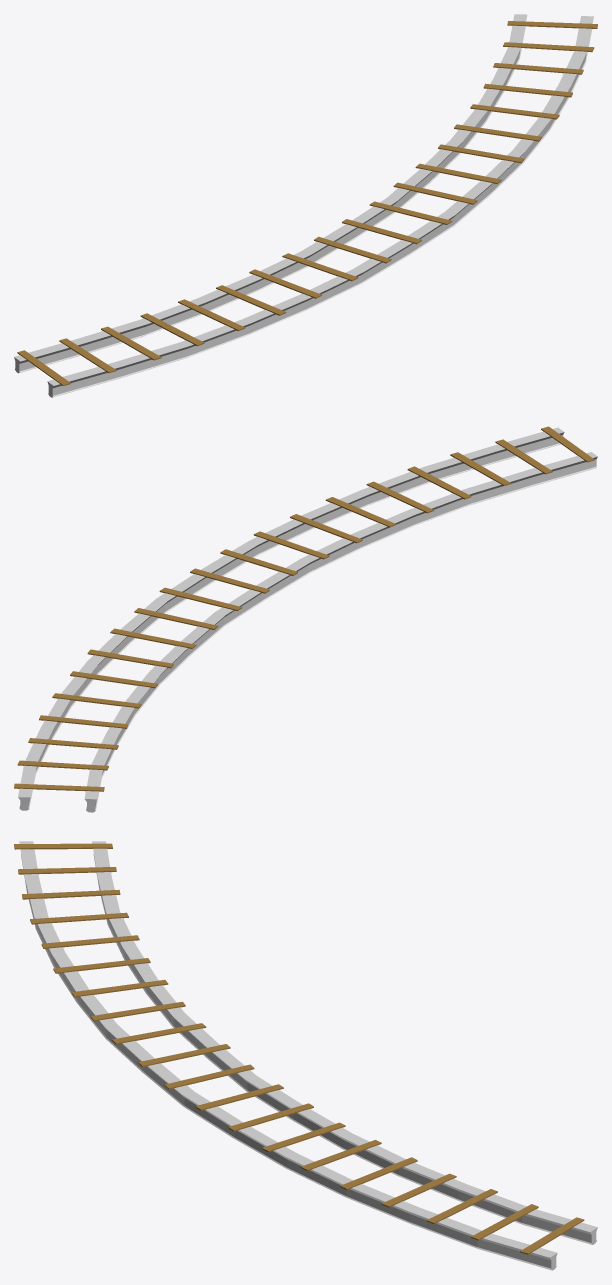
Rendered from 45dgTurn.fbx.
3 views of the same model, one above another, from view 1: azimuth 30°, elevation 25°; view 2: azimuth 210°, elevation 25°; view 3: azimuth 270°, elevation 25° (orthographic). The views are drawn at different scales.
Parts seen in each view (by area): view 1: Top, Bot; view 2: Top, Bot; view 3: Top, Bot.
Part boxes in pixels (bbox=[...]): Top: bbox=[14, 14, 593, 397]; Bot: bbox=[17, 21, 597, 386]; Top: bbox=[18, 427, 597, 812]; Bot: bbox=[14, 426, 594, 791]; Top: bbox=[19, 841, 597, 1270]; Bot: bbox=[14, 843, 584, 1254].
Bounding box in the file's own units: 3337 × 58.2 × 1978.
